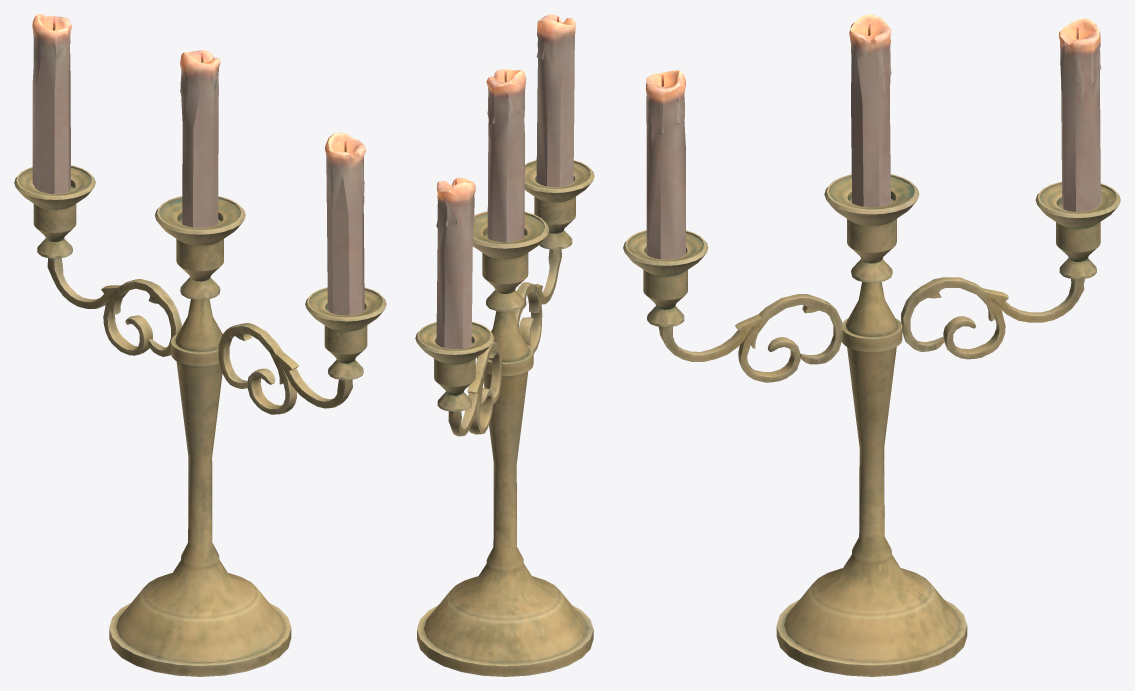
Rendered from candlestick-three-arm.glb.
3 views of the same model, side by side, from view 1: azimuth 30°, elevation 25°; view 2: azimuth 150°, elevation 25°; view 3: azimuth 270°, elevation 25° (orthographic). The views are drawn at different scales.
Parts seen in each view (by area): view 1: candlestick-three-arm; view 2: candlestick-three-arm; view 3: candlestick-three-arm.
Boxes of the visible parts, box(x1,y1,x2,y2) form: candlestick-three-arm: box(14, 14, 386, 676); candlestick-three-arm: box(415, 14, 594, 676); candlestick-three-arm: box(623, 14, 1120, 676).
Size of the model in its own units: 0.1051 by 0.3598 by 0.2637.
1 material, 1 textured.
